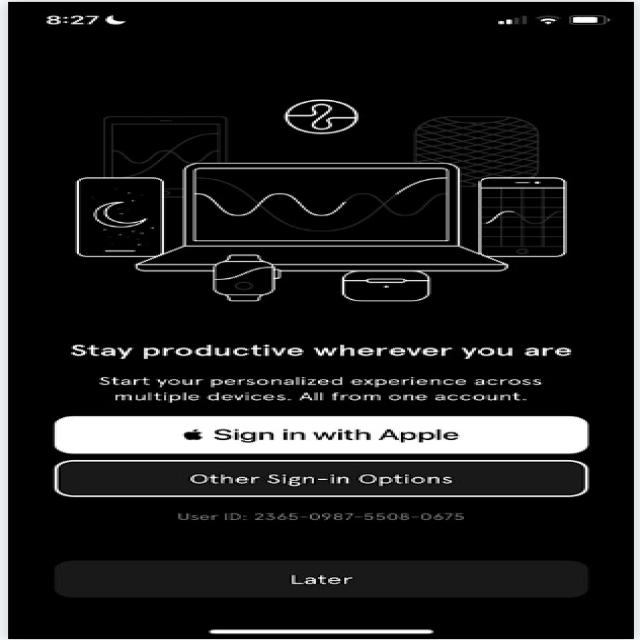button: (35, 547, 608, 608), (35, 456, 610, 502), (38, 412, 607, 452)
image: (0, 93, 640, 319)
text: (6, 332, 640, 412)
